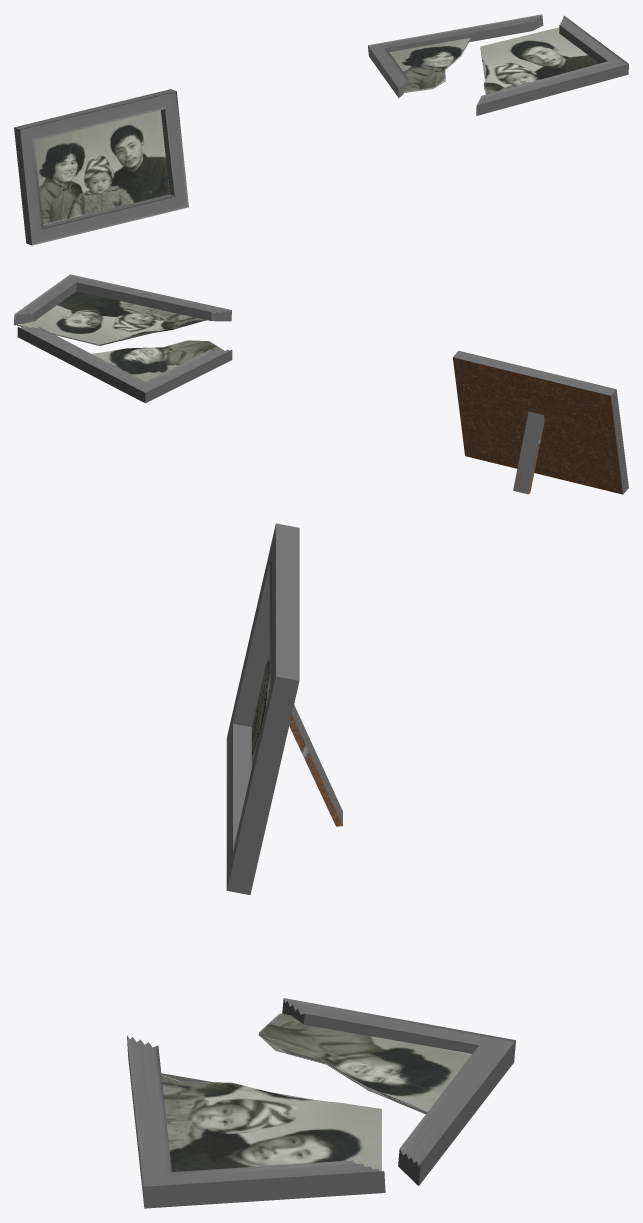
File: PICTUREFRAMES.fbx
The picture shows the model from 3 angles, top to bottom: view 1: azimuth 30°, elevation 25°; view 2: azimuth 150°, elevation 25°; view 3: azimuth 270°, elevation 25°; orthographic projection. The views are drawn at different scales.
Visible parts, largest first — view 1: polySurface1, polySurface4, polySurface6, polySurface3, polySurface7; view 2: polySurface1, polySurface4, polySurface3, polySurface6, polySurface7, pCube3; view 3: polySurface1, polySurface4, polySurface6, polySurface3, polySurface7, pCube3.
Boxes of the visible parts, box(x1,y1,x2,y2) form: polySurface1: box(14, 89, 188, 245); polySurface4: box(480, 27, 598, 94); polySurface6: box(476, 15, 628, 115); polySurface3: box(368, 14, 543, 97); polySurface7: box(389, 38, 470, 92); polySurface1: box(452, 351, 628, 494); polySurface4: box(17, 291, 206, 345); polySurface3: box(17, 327, 232, 403); polySurface6: box(14, 274, 231, 325); polySurface7: box(91, 340, 224, 381); pCube3: box(513, 411, 544, 494); polySurface1: box(226, 523, 299, 894); polySurface4: box(161, 1073, 381, 1171); polySurface6: box(127, 1035, 385, 1208); polySurface3: box(282, 998, 515, 1185); polySurface7: box(258, 1013, 471, 1114); pCube3: box(289, 704, 342, 826).
Size of the model in its own units: 1.1 by 0.2002 by 0.3223.
3 materials, 3 textured.
